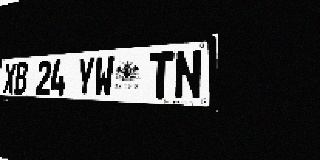2: (36, 60, 52, 95)
4: (50, 59, 67, 96)
B: (14, 62, 28, 94)
N: (174, 49, 203, 100)
T: (148, 51, 174, 99)
W: (94, 56, 114, 97)
X: (3, 63, 16, 94)
Y: (76, 57, 95, 97)
